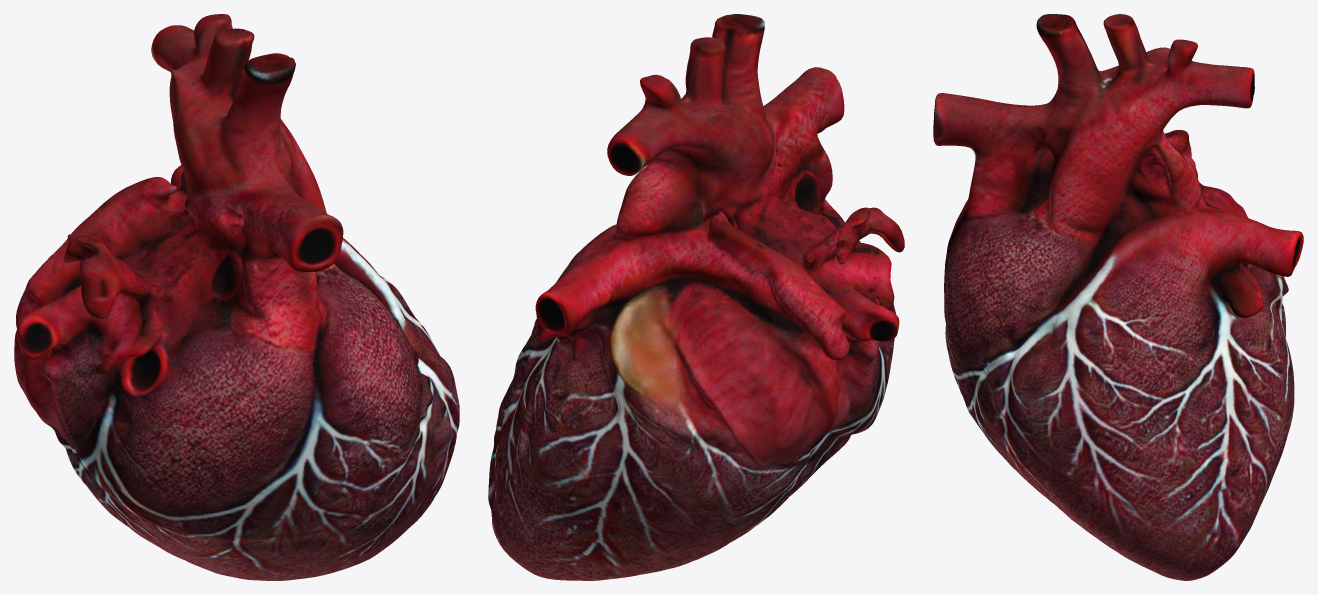
Rendered from heart.glb.
3 views of the same model, side by side, from view 1: azimuth 30°, elevation 25°; view 2: azimuth 150°, elevation 25°; view 3: azimuth 270°, elevation 25° (orthographic). The views are drawn at different scales.
Parts seen in each view (by area): view 1: high_poly_0; view 2: high_poly_0; view 3: high_poly_0.
Part boxes in pixels (<box>): high_poly_0: <box>14,14,459,580</box>; high_poly_0: <box>488,14,904,580</box>; high_poly_0: <box>933,14,1303,580</box>.
Size of the model in its own units: 0.7359 by 1 by 0.6659.
Materials: 1 (1 with a texture image).
